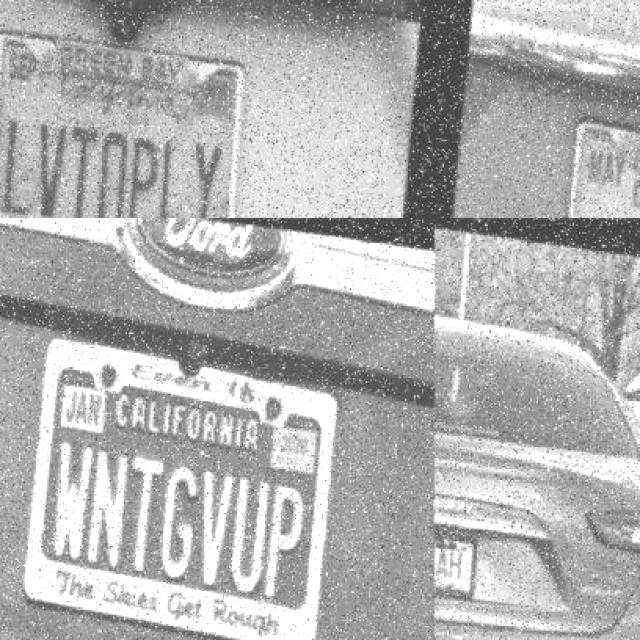licenseplate: (13, 326, 345, 640), (0, 24, 253, 218), (546, 116, 640, 218), (428, 526, 476, 595)
